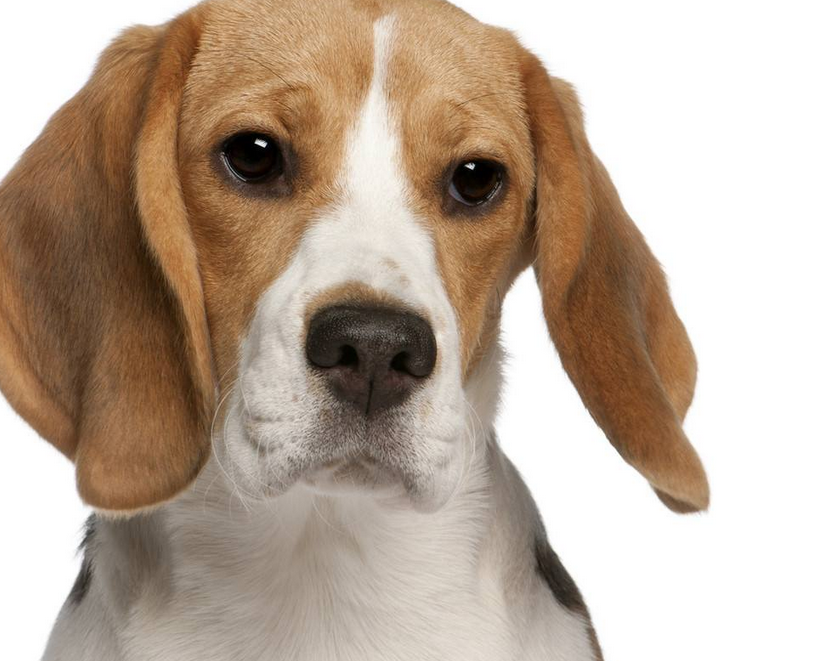nose: (295, 291, 452, 414)
